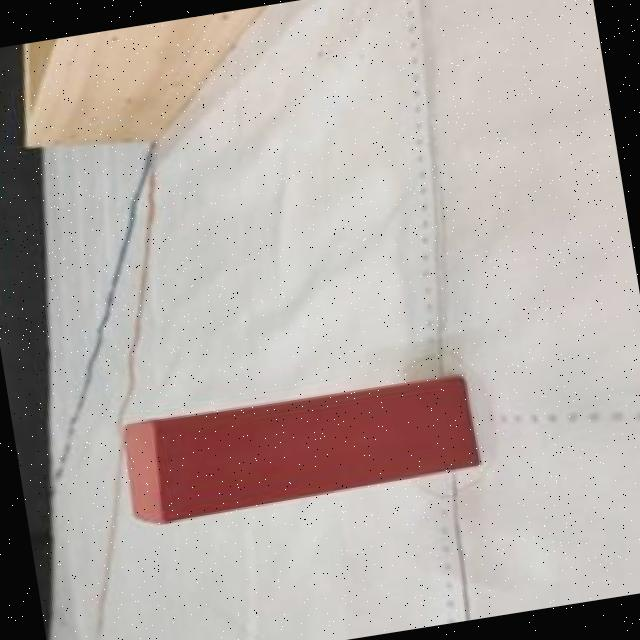redbox: (115, 371, 482, 527)
